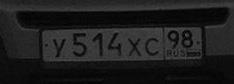license-plateSW: (40, 24, 206, 63)
